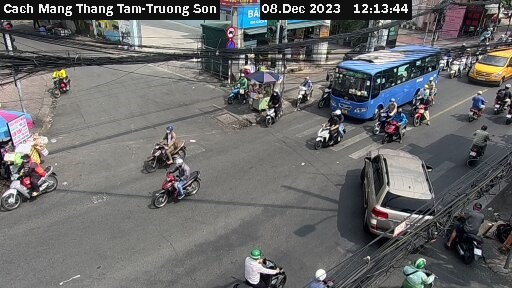bus: (329, 44, 443, 108)
car: (359, 144, 443, 242), (468, 45, 512, 83)
motorbike: (2, 158, 66, 209), (451, 200, 497, 266), (143, 167, 209, 209), (226, 248, 295, 288), (141, 128, 194, 171), (312, 111, 358, 153), (462, 125, 491, 166), (460, 90, 493, 123), (286, 76, 320, 107), (46, 64, 74, 98), (383, 116, 411, 145), (367, 100, 393, 131), (409, 97, 434, 127)
